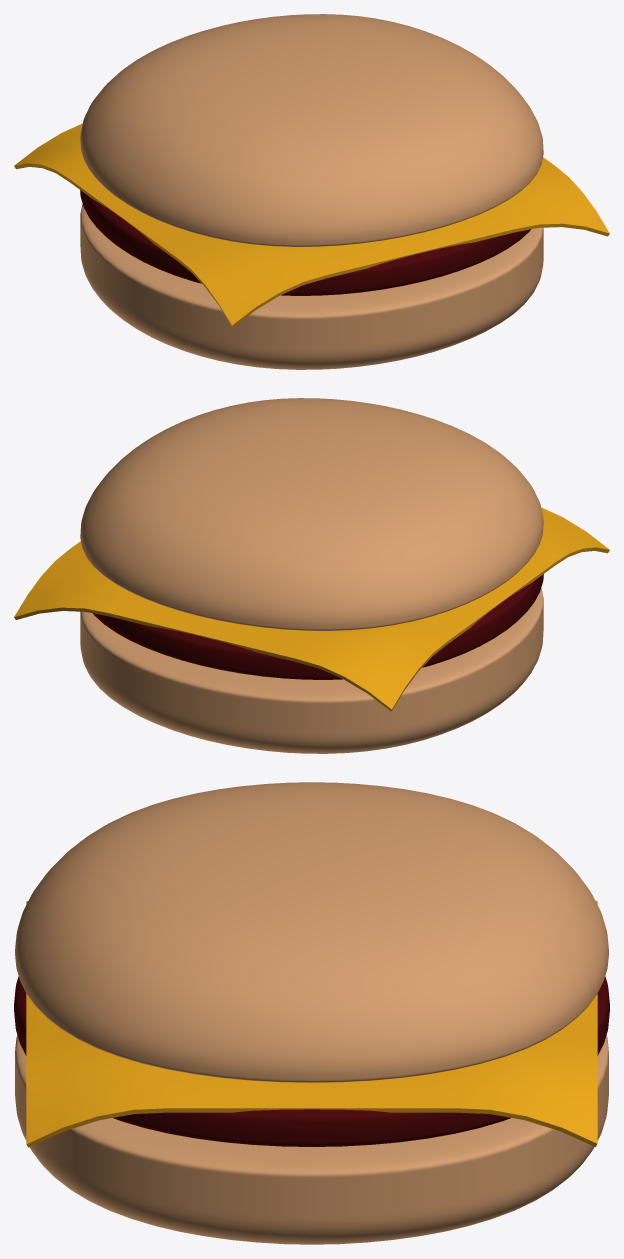
File: burger.glb
3 views of the same model, one above another, from view 1: azimuth 30°, elevation 25°; view 2: azimuth 150°, elevation 25°; view 3: azimuth 270°, elevation 25° (orthographic). The views are drawn at different scales.
Parts seen in each view (by area): view 1: Bum.001, Bum, Plane, Pad; view 2: Bum.001, Bum, Plane, Pad; view 3: Bum.001, Bum, Plane, Pad.
Part boxes in pixels (box(x1,y1,x2,y2)): Bum.001: box(80, 14, 543, 246); Bum: box(80, 204, 543, 369); Plane: box(14, 123, 609, 327); Pad: box(80, 190, 530, 295); Bum.001: box(80, 398, 543, 630); Bum: box(80, 588, 543, 753); Plane: box(14, 507, 609, 711); Pad: box(93, 574, 543, 679); Bum.001: box(15, 782, 608, 1082); Bum: box(15, 1035, 608, 1244); Plane: box(26, 900, 597, 1147); Pad: box(14, 976, 609, 1146).
Bounding box in the file's own units: 9.16 × 5.24 × 9.16.
